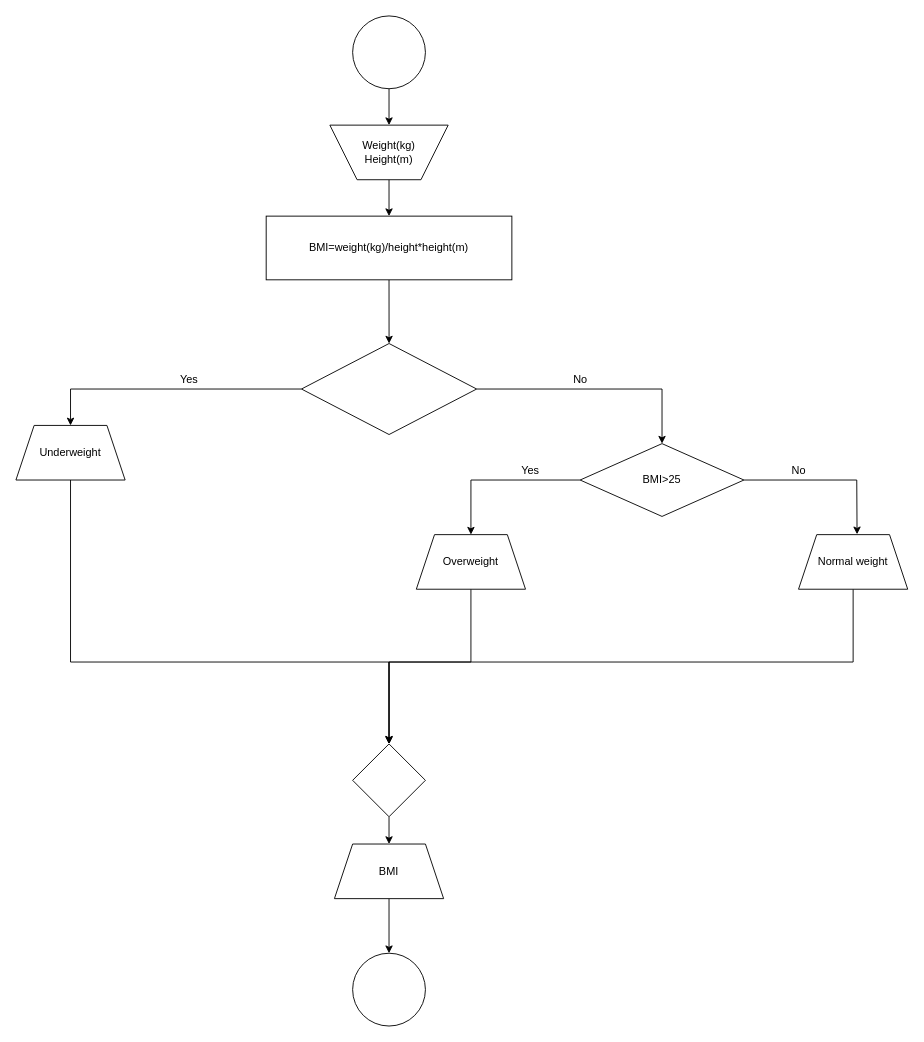
This 924x1042 diagram has some shape labels left out. Each missing label, with the centre of its shape:
BMI<18.5: point 389,389
Start: point 388,52
Stop: point 388,989
